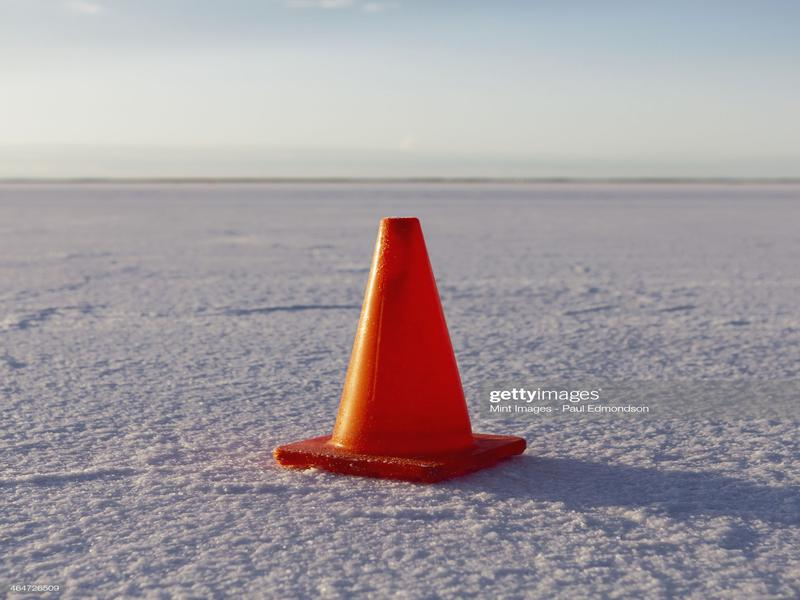Cone1: (275, 217, 526, 484)
